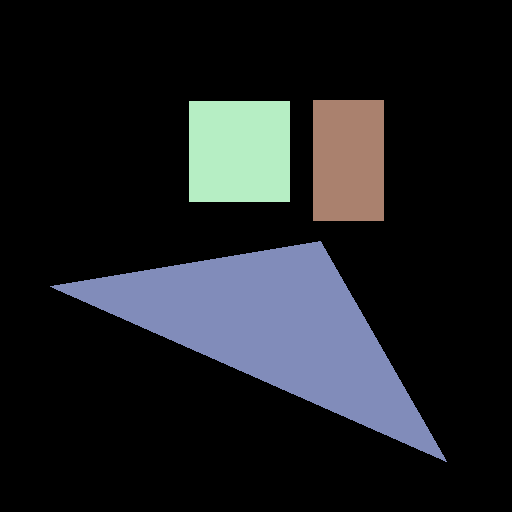rectangle: (313, 100, 383, 220)
square: (189, 101, 289, 201)
triangle: (50, 241, 446, 461)
